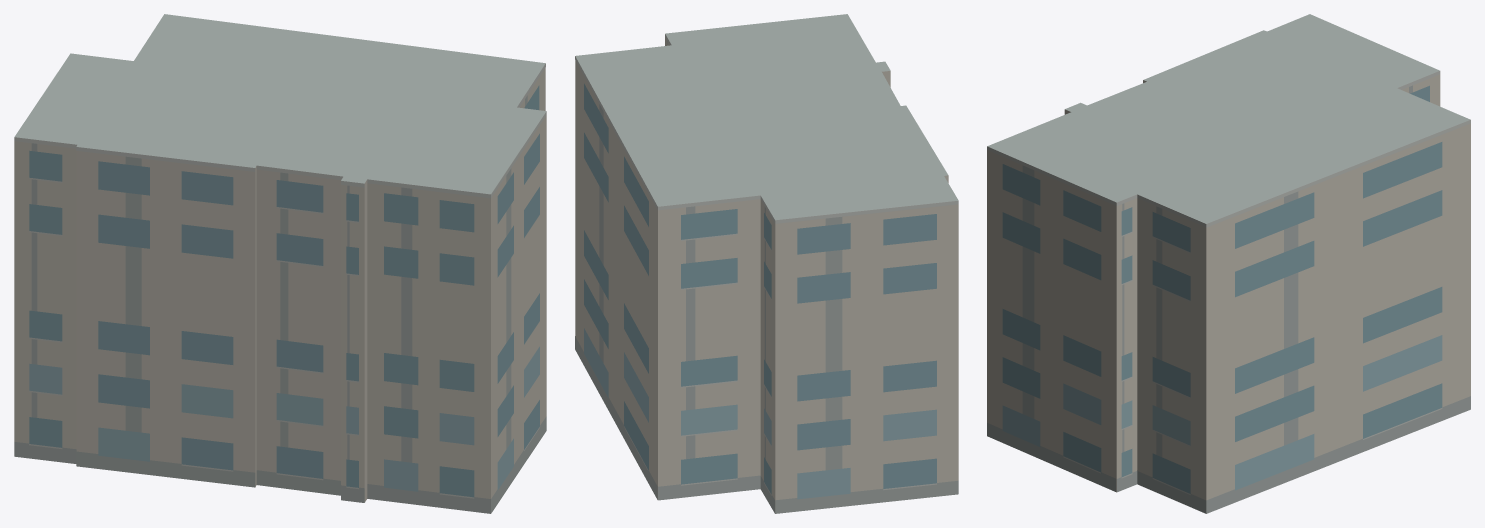
The model's file is survey-upis-32835854.glb.
The picture shows the model from 3 angles, left to right: view 1: azimuth 30°, elevation 25°; view 2: azimuth 150°, elevation 25°; view 3: azimuth 270°, elevation 25°; orthographic projection. The views are drawn at different scales.
Parts seen in each view (by area): view 1: survey-upis-32835854.tmp; view 2: survey-upis-32835854.tmp; view 3: survey-upis-32835854.tmp.
Part boxes in pixels (x1=…): survey-upis-32835854.tmp: x1=14, y1=14, x2=546, y2=513; survey-upis-32835854.tmp: x1=575, y1=14, x2=958, y2=513; survey-upis-32835854.tmp: x1=987, y1=14, x2=1470, y2=513.
Size of the model in its own units: 30.55 by 19.65 by 29.72.
